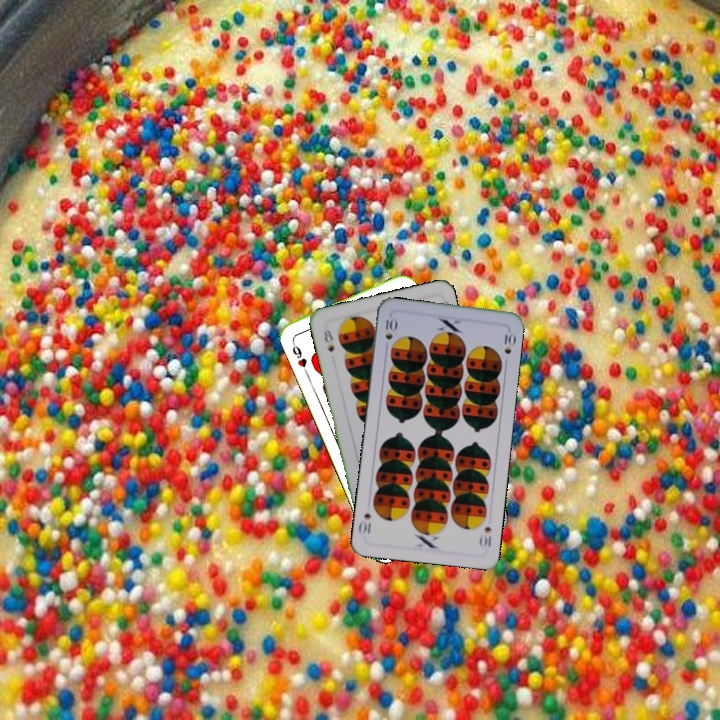H9: (288, 336, 310, 375)
S10: (381, 312, 398, 343), (476, 522, 494, 550)
S8: (319, 326, 337, 354)
